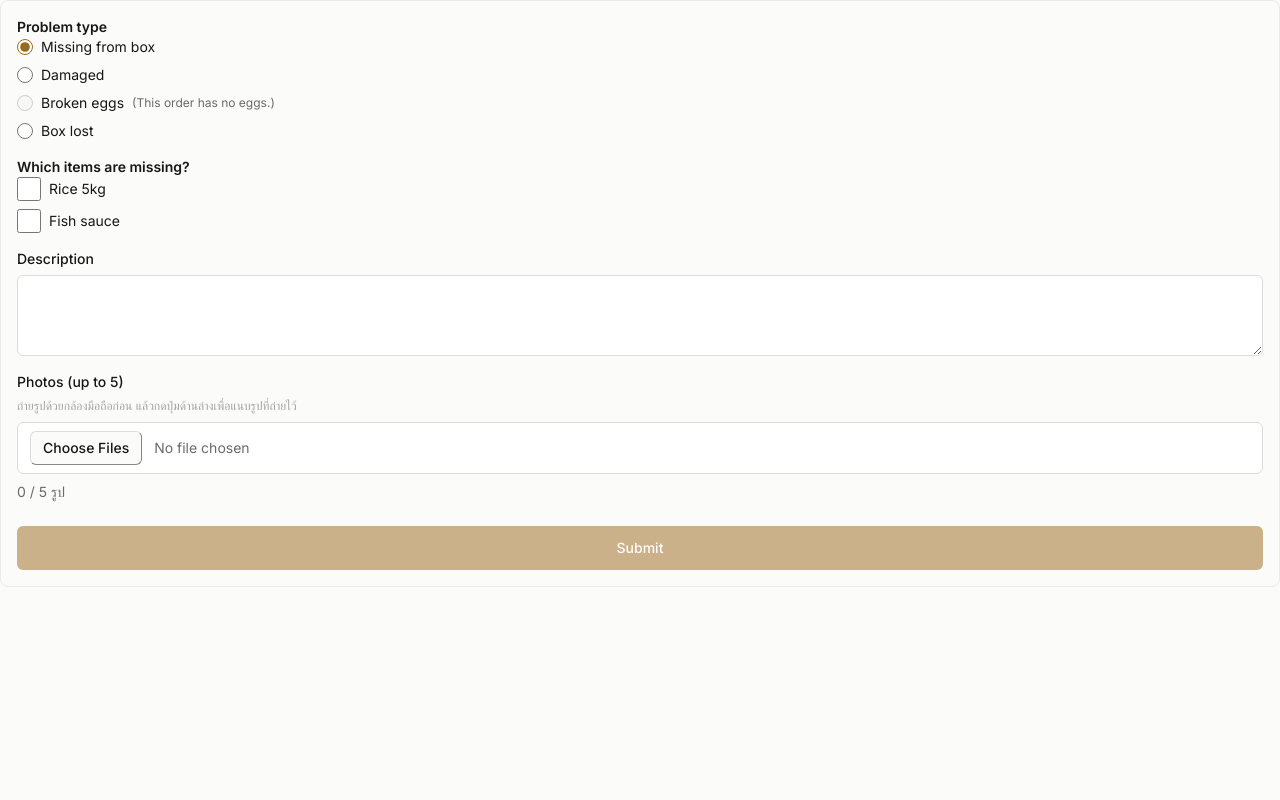
Test case: a qty input cannot be typed or clamped above its item shippedQty
Click the checkbox labelled "Fish sauce": (29, 221) [17,209,41,233]
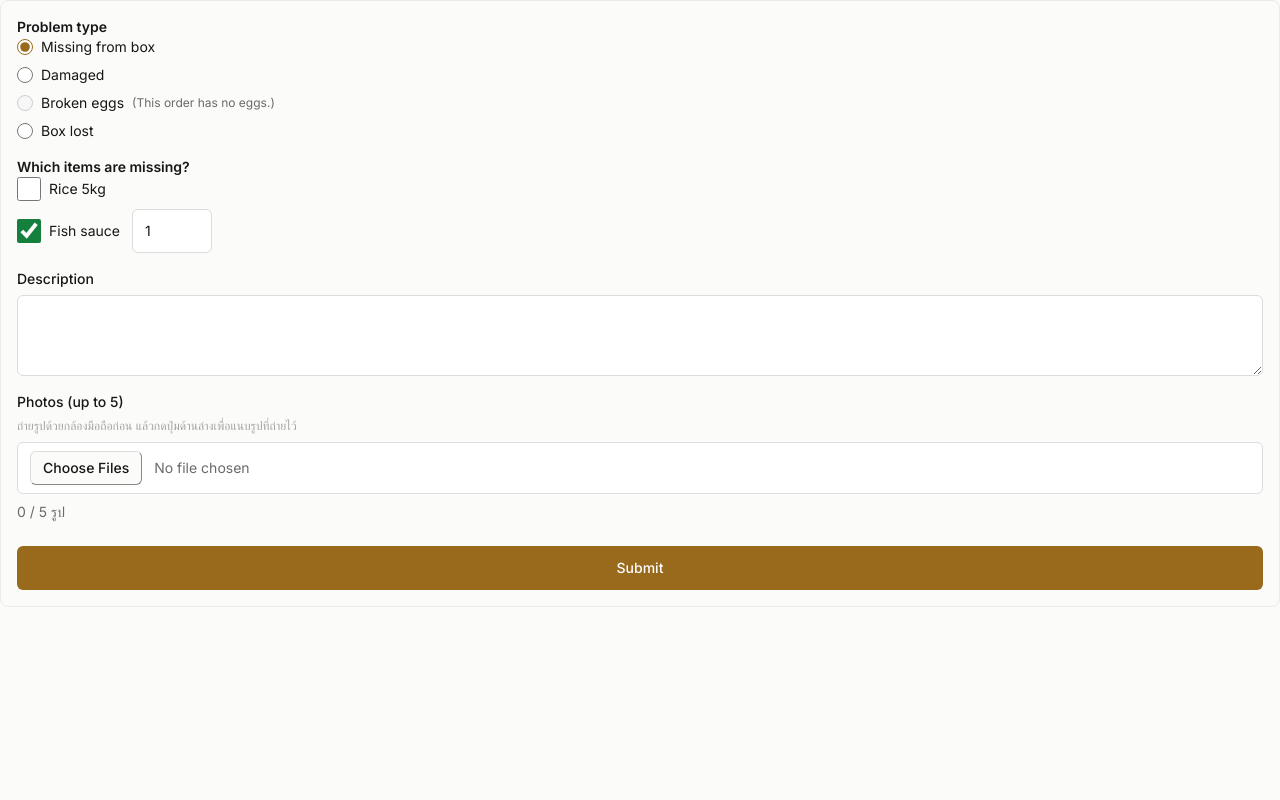
Click the number field named "Quantity: Fish sauce": (172, 231) [132,209,212,253]
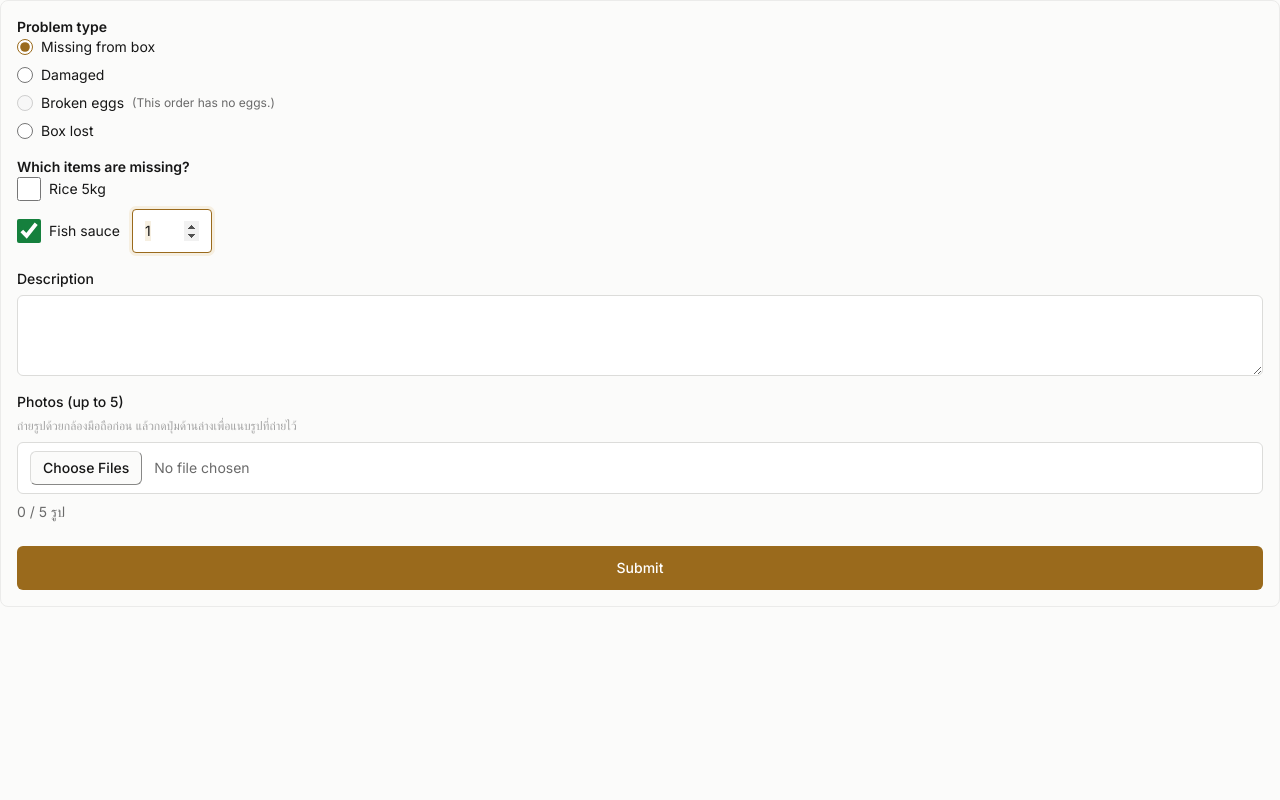
Type keys "9"
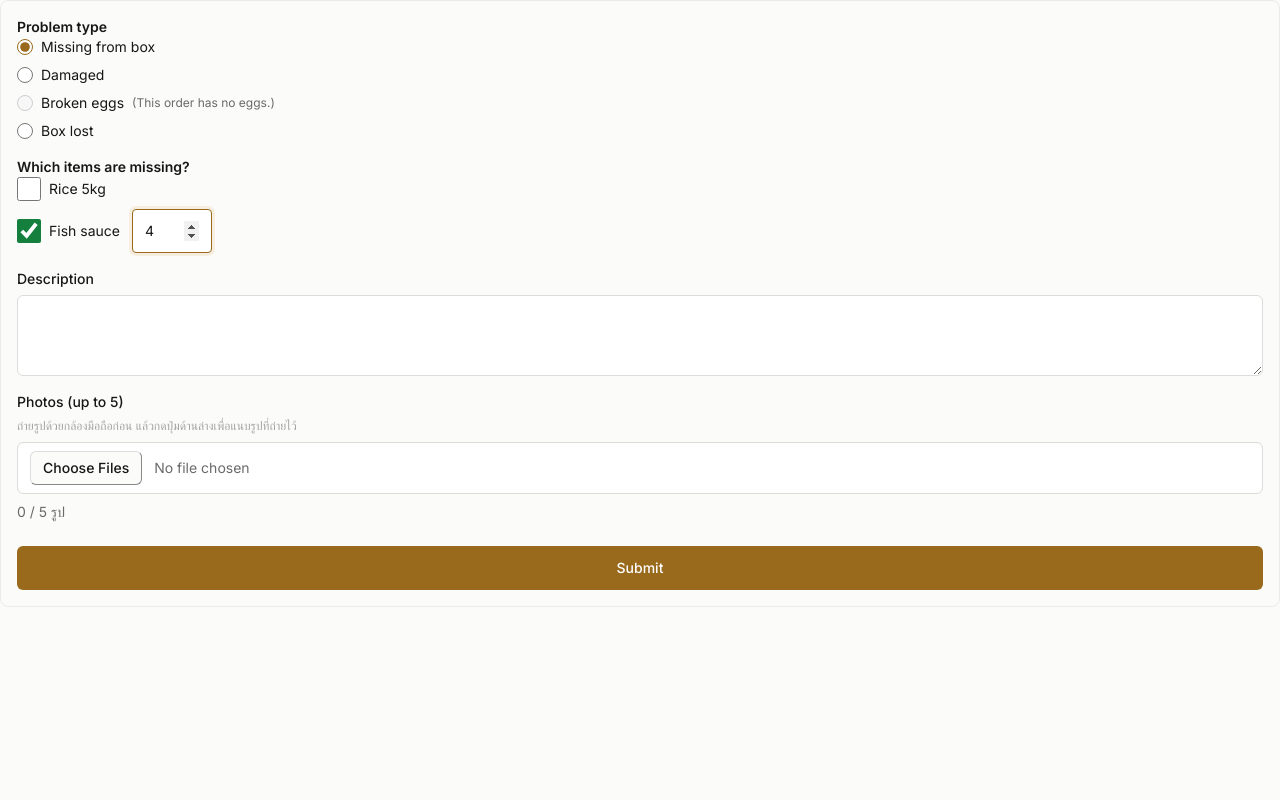
Result: the number field named "Quantity: Fish sauce" holds "4" at [132,209,212,253]
